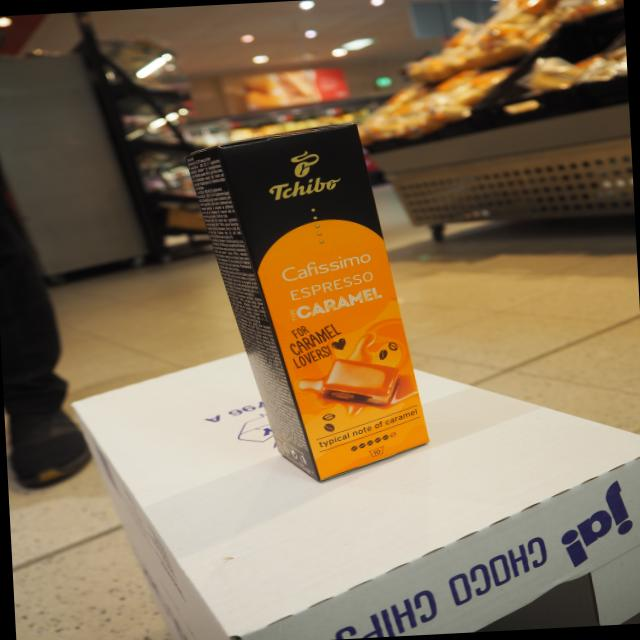Simo Es Caramel: (209, 120, 434, 491)
